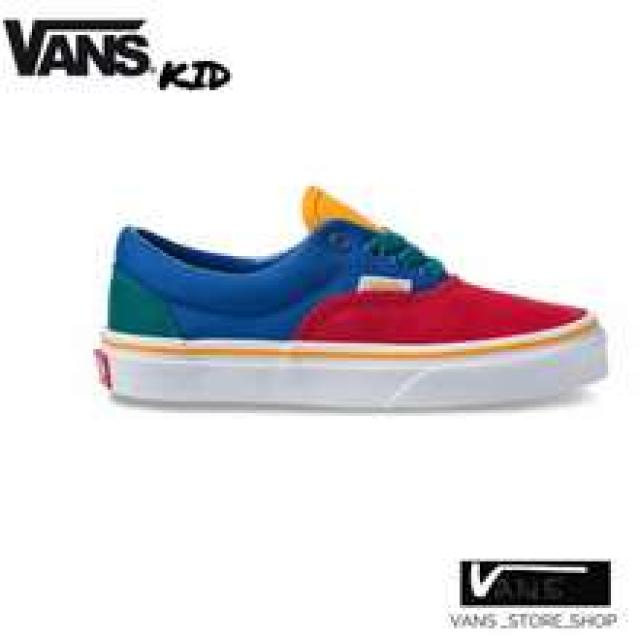shoe: (94, 181, 610, 411)
